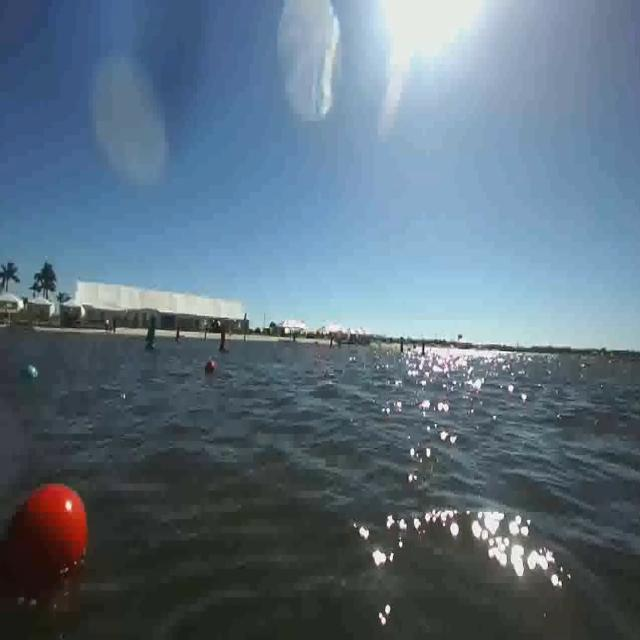black-buoy: (205, 357, 219, 378)
green-buoy: (20, 356, 40, 386)
green-column-buoy: (144, 314, 160, 353)
red-buoy: (2, 476, 94, 613)
